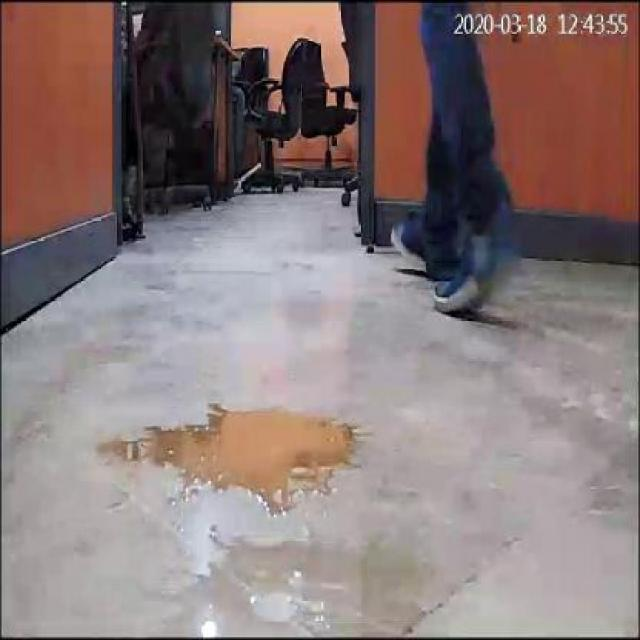spill: (95, 394, 377, 508), (152, 528, 432, 636)
